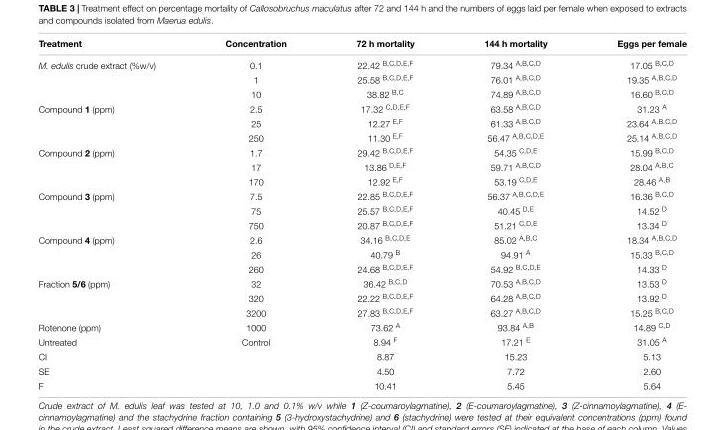table: (37, 37, 686, 390)
table column: (37, 37, 189, 390), (448, 37, 581, 390), (189, 37, 320, 390), (320, 37, 448, 390), (581, 37, 686, 390)
table column header: (37, 37, 686, 53)
table row: (37, 53, 686, 71), (37, 37, 686, 53), (37, 85, 686, 100), (37, 100, 686, 115), (37, 129, 686, 144), (37, 158, 686, 173), (37, 187, 686, 202), (37, 216, 686, 231), (37, 231, 686, 246), (37, 260, 686, 275), (37, 289, 686, 304), (37, 318, 686, 333), (37, 333, 686, 348), (37, 348, 686, 363), (37, 71, 686, 85), (37, 115, 686, 129), (37, 144, 686, 158), (37, 173, 686, 187), (37, 202, 686, 216), (37, 246, 686, 260), (37, 275, 686, 289), (37, 304, 686, 318), (37, 363, 686, 377), (37, 377, 686, 390)
table spanning cell: (37, 53, 189, 100), (37, 100, 189, 144), (37, 187, 189, 231), (37, 231, 189, 275), (37, 144, 189, 187), (37, 275, 189, 318)
